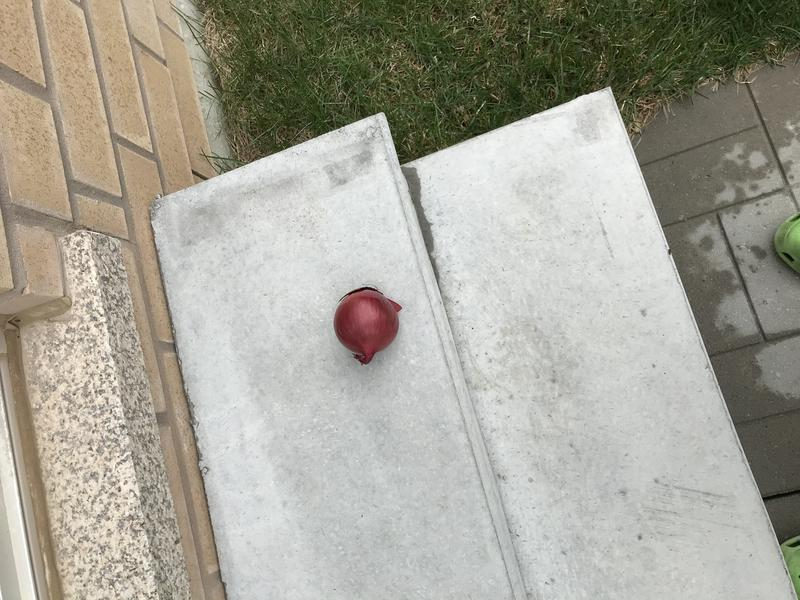purple_onion: (330, 284, 412, 368)
